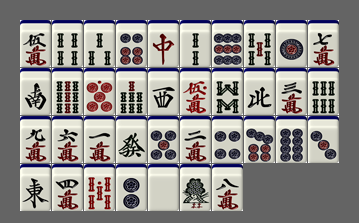0m: (180, 68, 211, 115)
0p: (84, 68, 115, 115)
0s: (84, 164, 115, 211)
1m: (84, 116, 115, 163)
1p: (276, 20, 307, 67)
1s: (180, 164, 211, 211)
1z: (20, 164, 51, 211)
2m: (180, 116, 211, 163)
2p: (116, 164, 147, 211)
2s: (180, 20, 211, 67)
2z: (20, 68, 51, 115)
3m: (276, 68, 307, 115)
3p: (308, 116, 339, 163)
3s: (84, 20, 115, 67)
3z: (148, 68, 179, 115)
4m: (52, 164, 83, 211)
4p: (212, 116, 243, 163)
4s: (52, 20, 83, 67)
4z: (244, 68, 275, 115)
5m: (20, 20, 51, 67)
5p: (148, 116, 179, 163)
5s: (244, 20, 275, 67)
5z: (148, 164, 179, 211)
6m: (52, 116, 83, 163)
6p: (116, 20, 147, 67)
6s: (308, 68, 339, 115)
6z: (116, 116, 147, 163)
7m: (308, 20, 339, 67)
7p: (244, 116, 275, 163)
7s: (116, 68, 147, 115)
7z: (148, 20, 179, 67)
8m: (212, 164, 243, 211)
8p: (276, 116, 307, 163)
8s: (212, 68, 243, 115)
9m: (20, 116, 51, 163)
9p: (212, 20, 243, 67)
9s: (52, 68, 83, 115)
